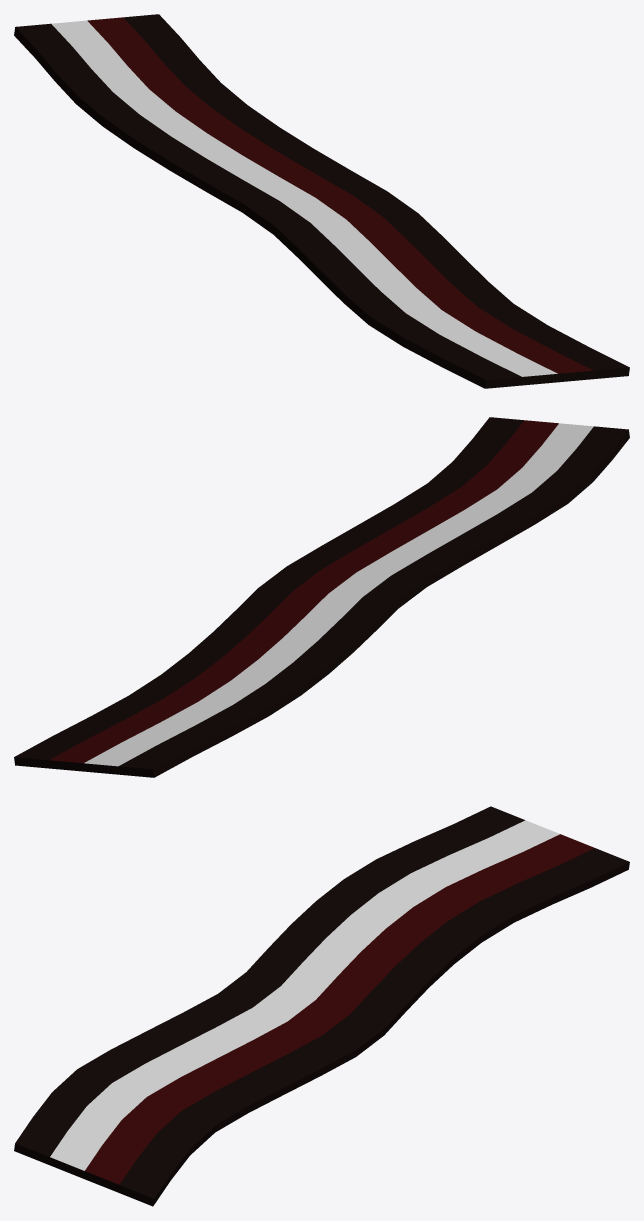
Rendered from bacon.FBX.
3 views of the same model, one above another, from view 1: azimuth 30°, elevation 25°; view 2: azimuth 150°, elevation 25°; view 3: azimuth 330°, elevation 25° (orthographic). The views are drawn at different scales.
Parts seen in each view (by area): view 1: Bacon; view 2: Bacon; view 3: Bacon.
Part boxes in pixels (x1,y1,x2,y2): Bacon: (14,14,629,388); Bacon: (14,417,629,777); Bacon: (14,806,629,1206).
Size of the model in its own units: 0.000333 by 6.38e-05 by 0.00153.
